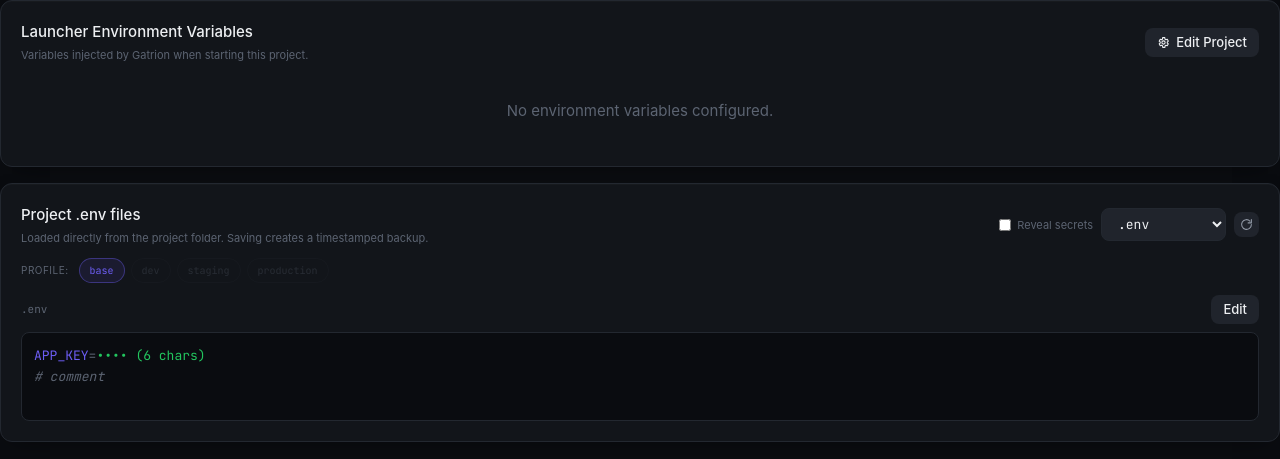
EnvironmentTab env files › reveals secret values when the toggle is on
Expected: the text "APP_KEY" is shown, [34,347,89,364]
Click the checkbox labelled "Reveal secrets": (1005, 225) [999,219,1011,231]
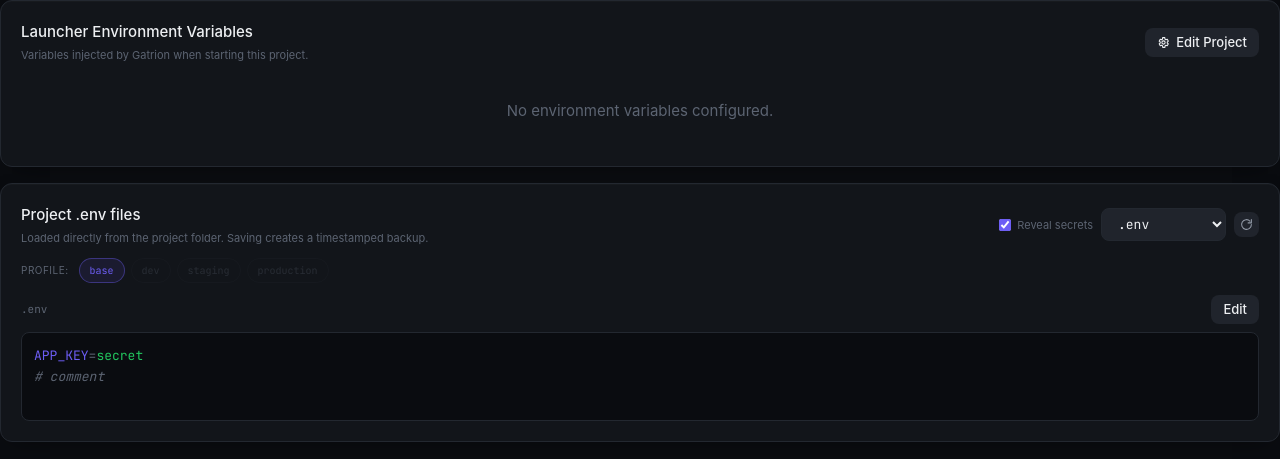
Expected: the text "secret" is shown, [96,347,143,364]
